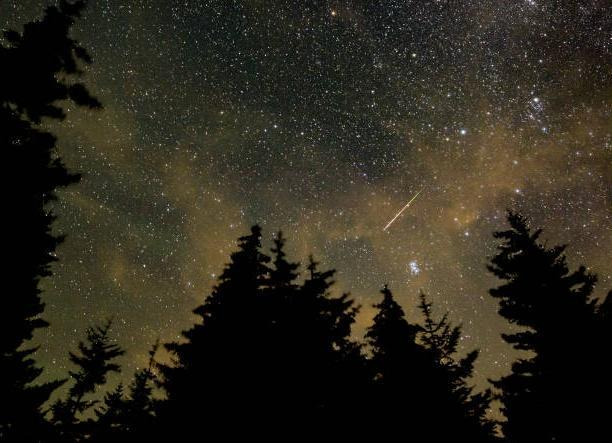meteorite: (380, 185, 457, 232)
